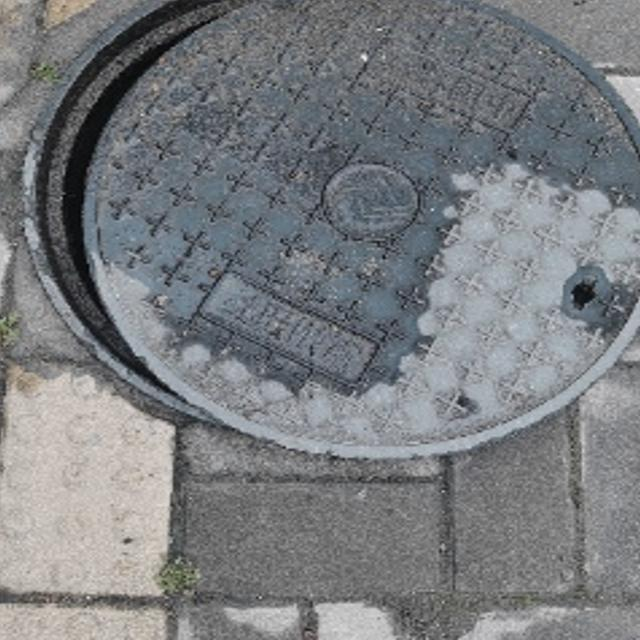uncovered: (11, 0, 640, 437)
